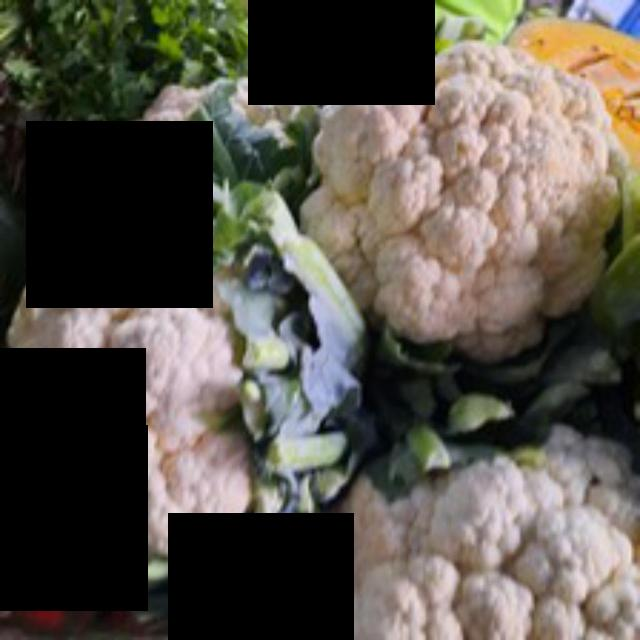cauliflower: (293, 42, 629, 363), (1, 200, 278, 564)
